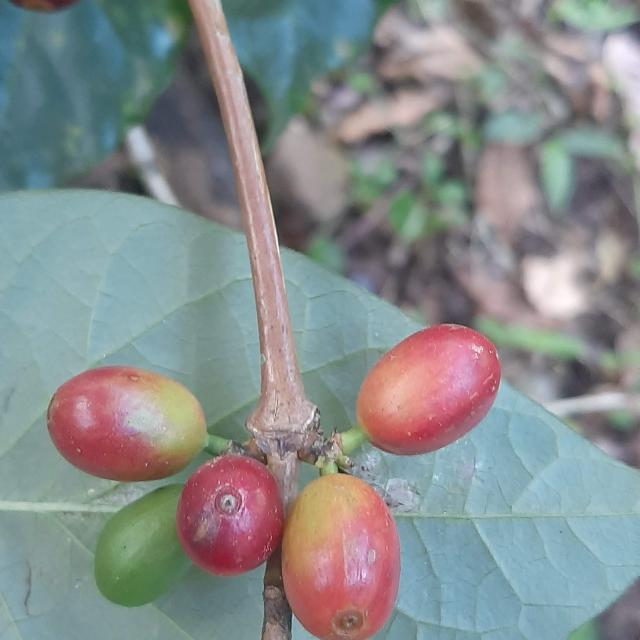green: (94, 485, 190, 608)
red: (357, 324, 501, 455), (176, 455, 284, 578)
yellow: (282, 474, 401, 640), (46, 366, 207, 482)
